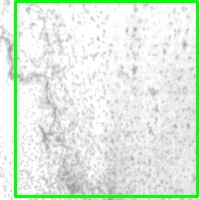pitted_surface: (15, 1, 197, 196)
